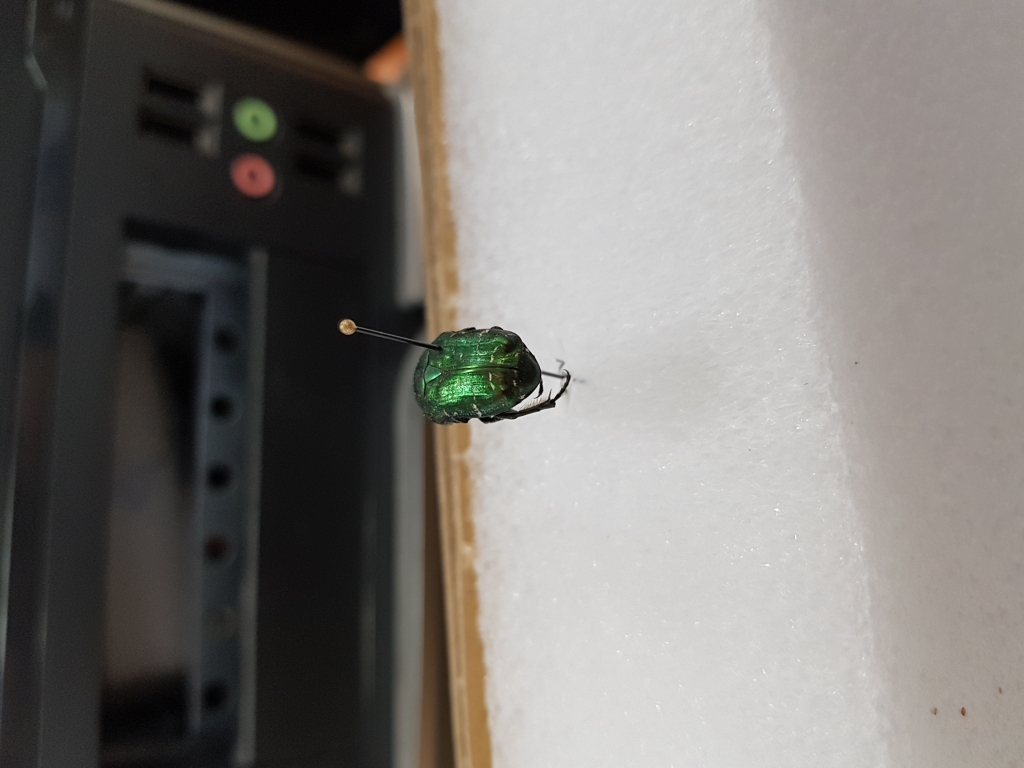Cetonia_kemali: (408, 326, 573, 432)
